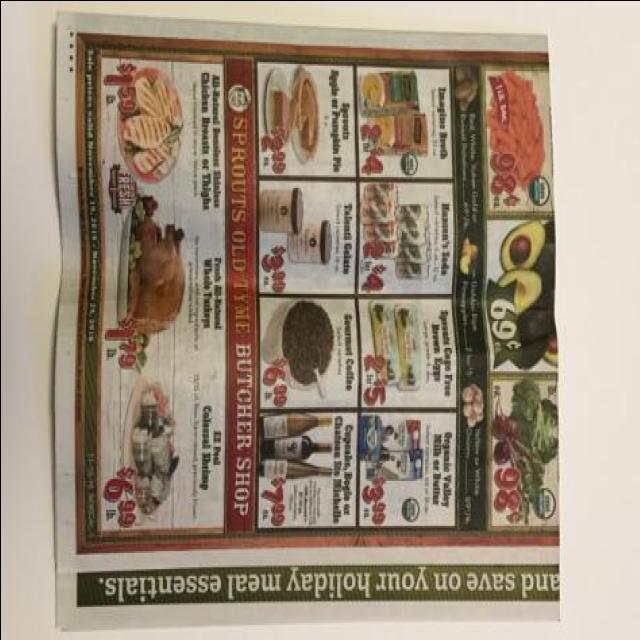kertas: (49, 5, 560, 634)
